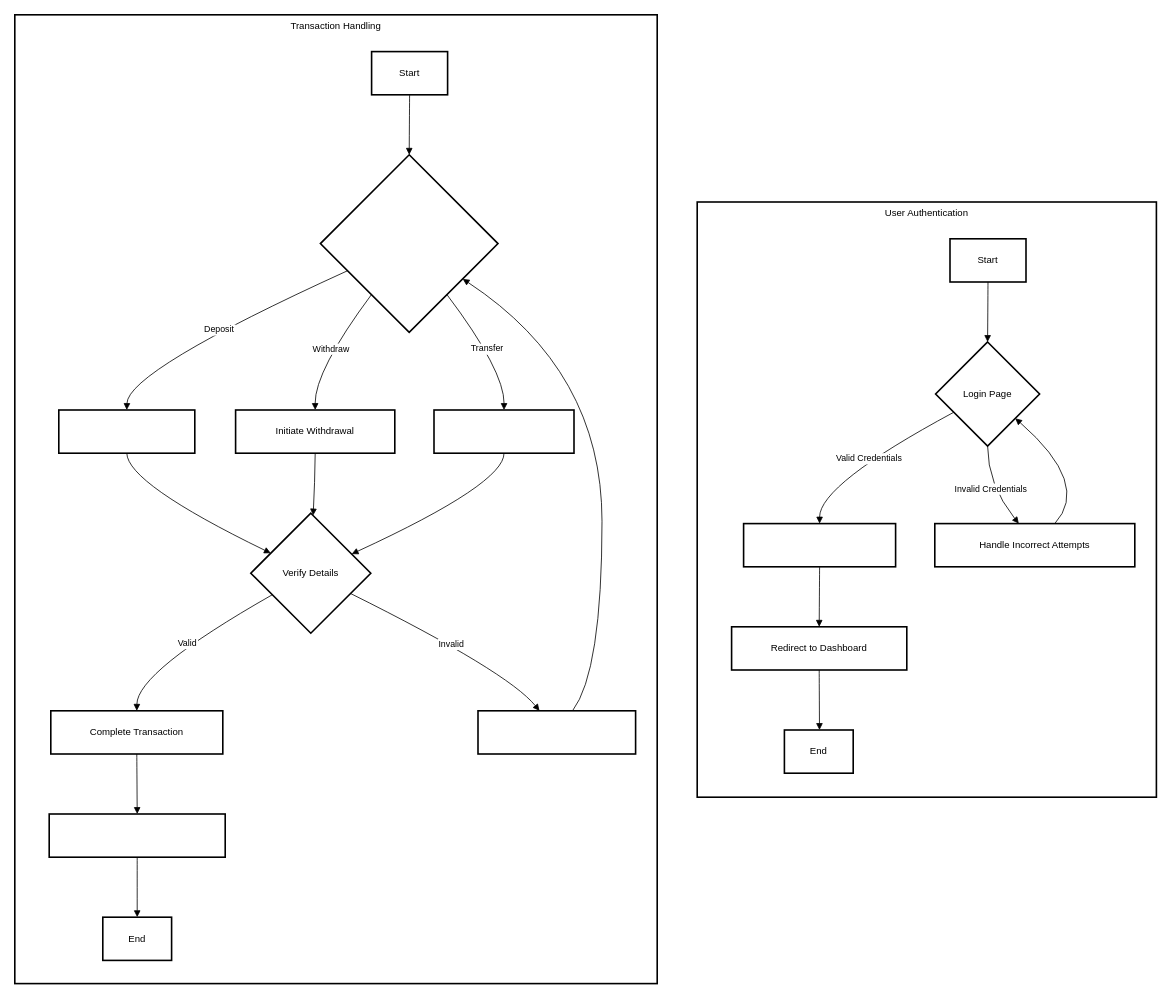
The diagram is 1170 pixels wide and 998 high, and some of its shapes have lost their labels. Each missing label, with the centre of its shape:
"Authenticate User" goes at point 819,544.
"Initiate Deposit" goes at point 126,431.
"Initiate Transfer" goes at point 503,431.
"Request Correction" goes at point 556,732.
"Select Transaction Type" goes at point 408,243.
"Transaction Successful" goes at point 137,835.
